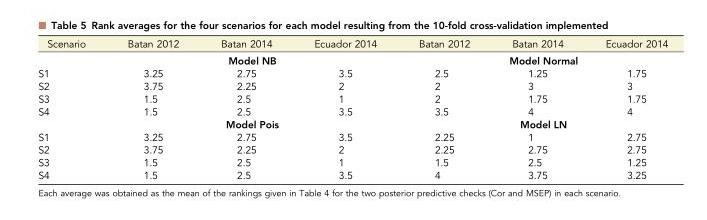table: (37, 37, 667, 180)
table column: (292, 37, 397, 180), (105, 37, 199, 180), (199, 37, 292, 180), (397, 37, 490, 180), (490, 37, 583, 180), (583, 37, 667, 180), (37, 37, 105, 180)
table column header: (37, 37, 667, 51)
table row: (37, 51, 667, 66), (37, 37, 667, 51), (37, 66, 667, 79), (37, 79, 667, 92), (37, 104, 667, 117), (37, 117, 667, 130), (37, 130, 667, 143), (37, 155, 667, 168), (37, 92, 667, 104), (37, 143, 667, 155), (37, 168, 667, 180)
table spanning cell: (105, 51, 397, 66), (397, 51, 667, 66), (105, 117, 397, 130), (397, 117, 667, 130), (37, 104, 105, 130)
